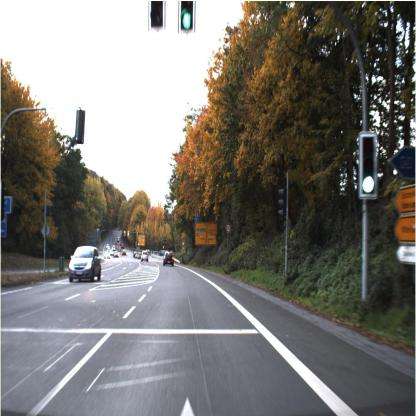prohibitory: (223, 221, 233, 237)
